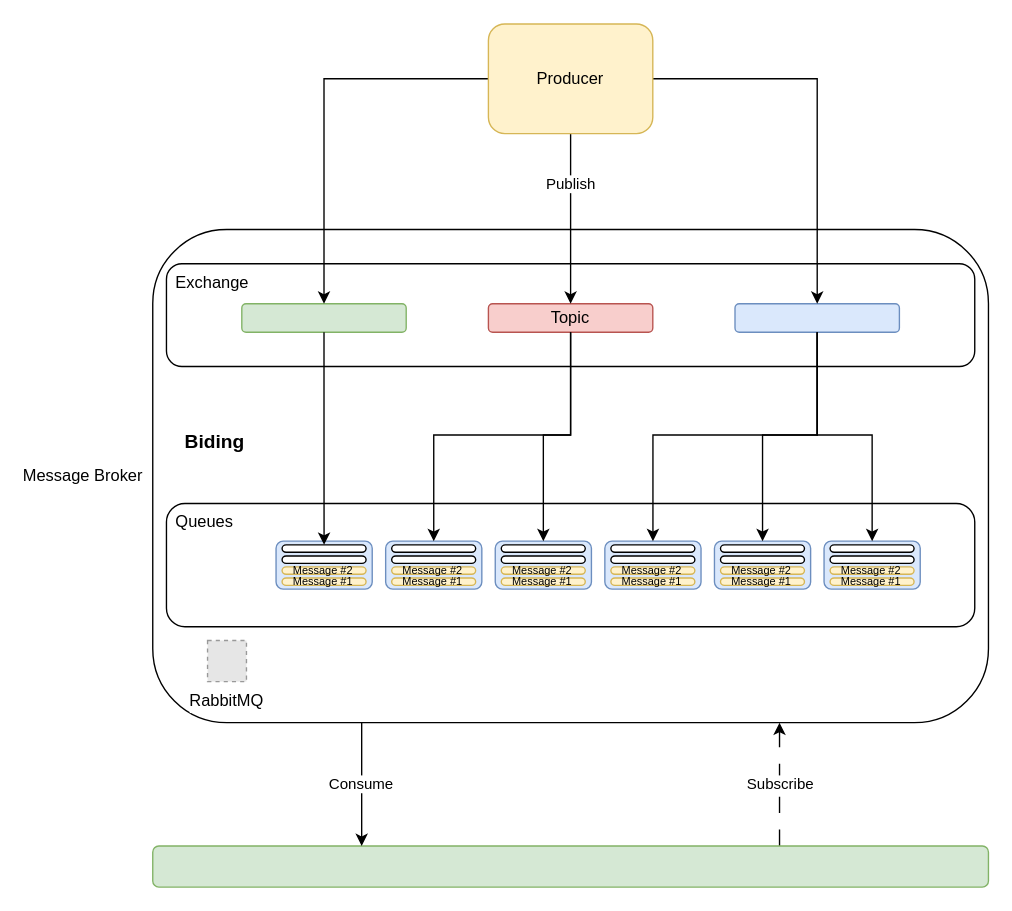
Image size: 1012x911. Some labels were removed from this diagram. Grey dashed boxes stand in for pictures. The shapes that lost their labels are listed below. From the top down, each one's centre as x and y in pixels, then its label:
At (x=323, y=317): "Direct".
At (x=816, y=317): "Fanout".
At (x=569, y=866): "Consumer".
